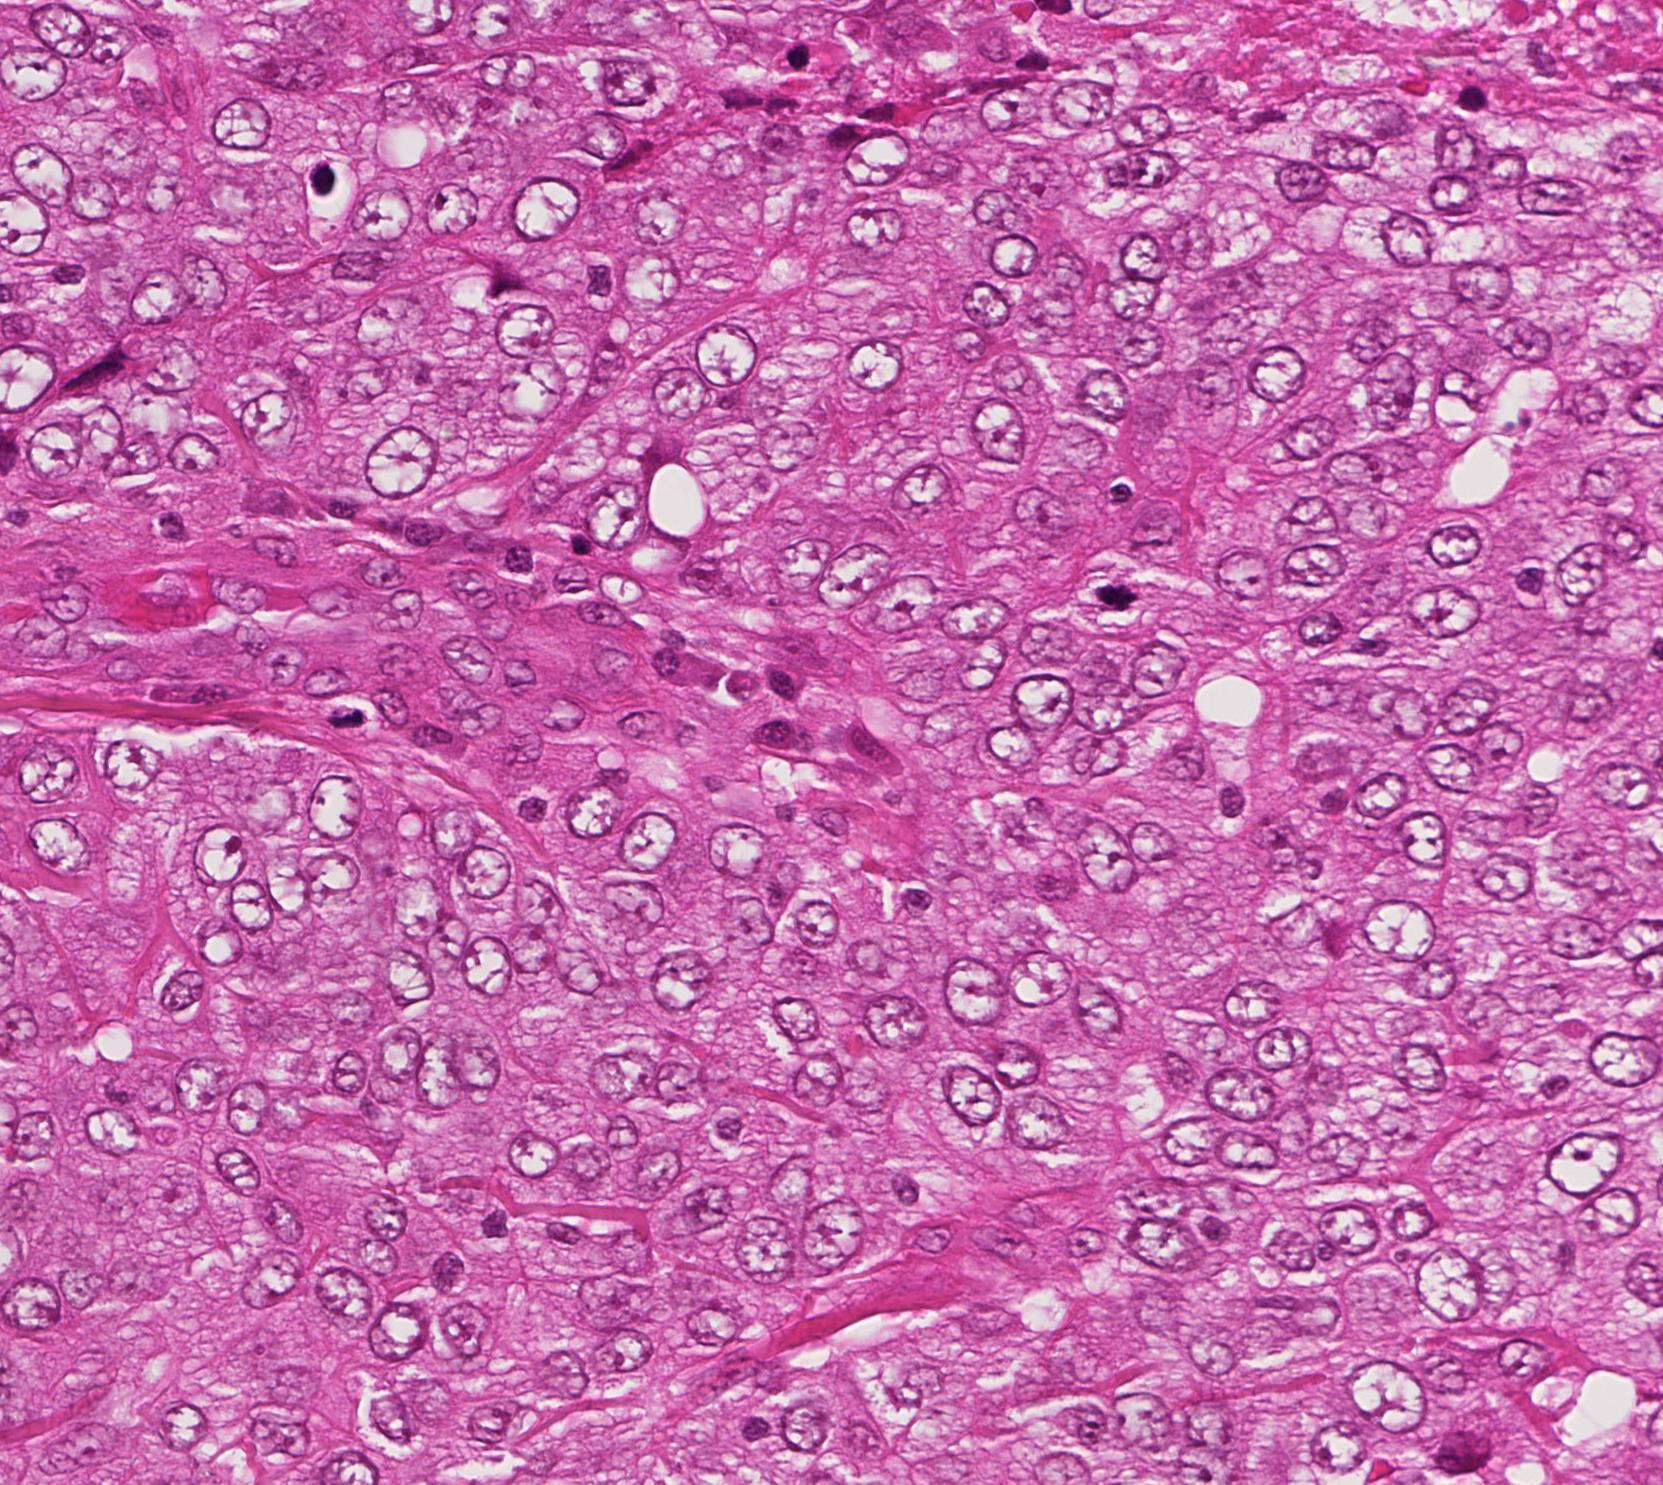mitosis: (1085, 553, 1145, 613)
